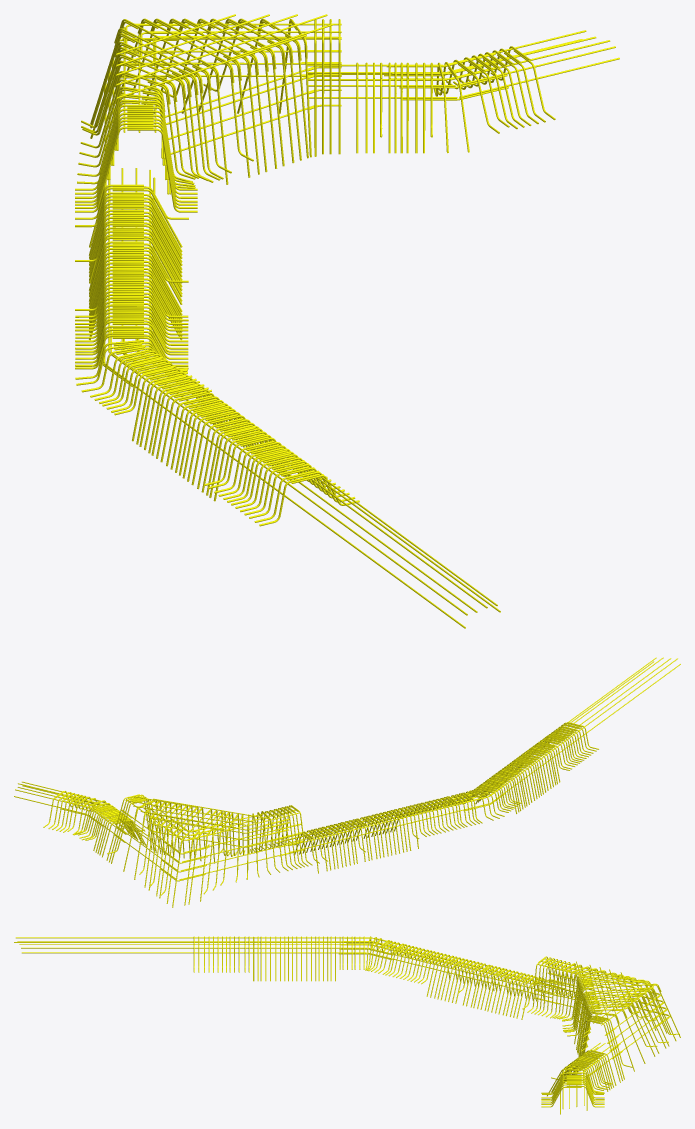
The model's file is T1Block07_OneQuarter_SkirtRebar.fbx.
3 renders of one model, top to bottom at view 1: azimuth 30°, elevation 25°; view 2: azimuth 150°, elevation 25°; view 3: azimuth 270°, elevation 25°, orthographic. The views are drawn at different scales.
Parts seen in each view (by area): view 1: default; view 2: default; view 3: default.
Part boxes in pixels (x1,y1,x2,y2): default: [75, 14, 619, 628]; default: [14, 657, 680, 907]; default: [14, 936, 680, 1114].
Size of the model in its own units: 10430 by 1549 by 16594.
